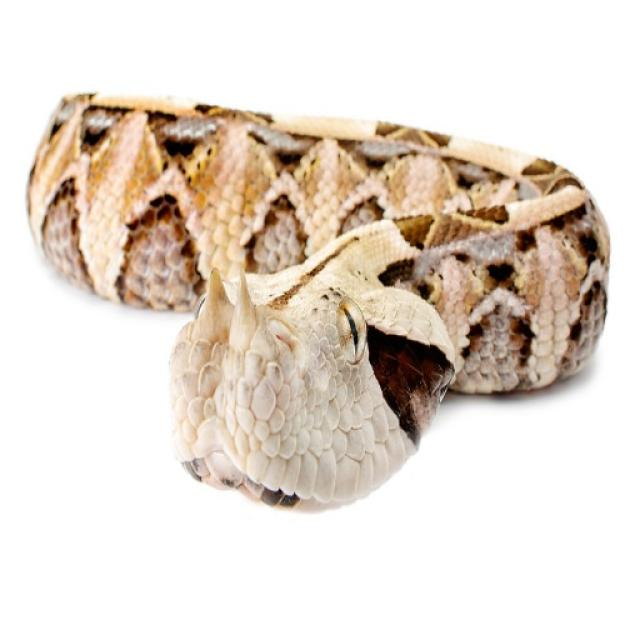snake: (18, 70, 626, 526)
